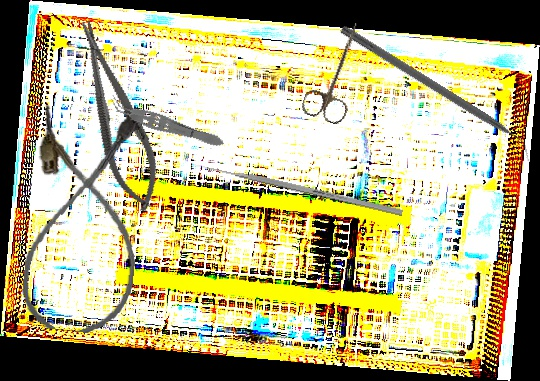Cannula: (18, 103, 151, 338)
Chopper: (332, 24, 540, 165)
Iris Scissors: (299, 14, 376, 127)
Needle Holder: (63, 13, 172, 218)
Pusher: (192, 161, 404, 216)
Tissue Forceps: (105, 94, 227, 153)
